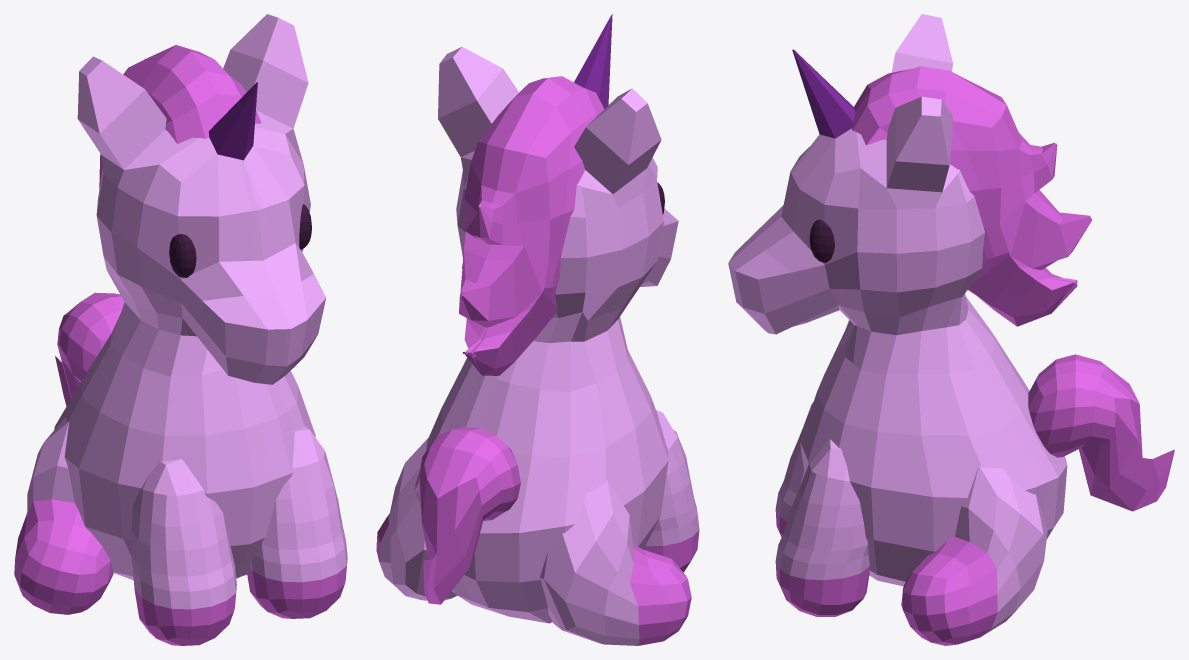
Rendered from unicorn.fbx.
The picture shows the model from 3 angles, left to right: view 1: azimuth 30°, elevation 25°; view 2: azimuth 150°, elevation 25°; view 3: azimuth 270°, elevation 25°; orthographic projection. The views are drawn at different scales.
Visible parts, largest first — view 1: Cube.001; view 2: Cube.001; view 3: Cube.001.
Boxes of the visible parts, x1,y1,x2,y2 form: Cube.001: [14, 14, 347, 645]; Cube.001: [376, 14, 699, 645]; Cube.001: [728, 14, 1174, 645].
Bounding box in the file's own units: 286 × 487 × 366.
